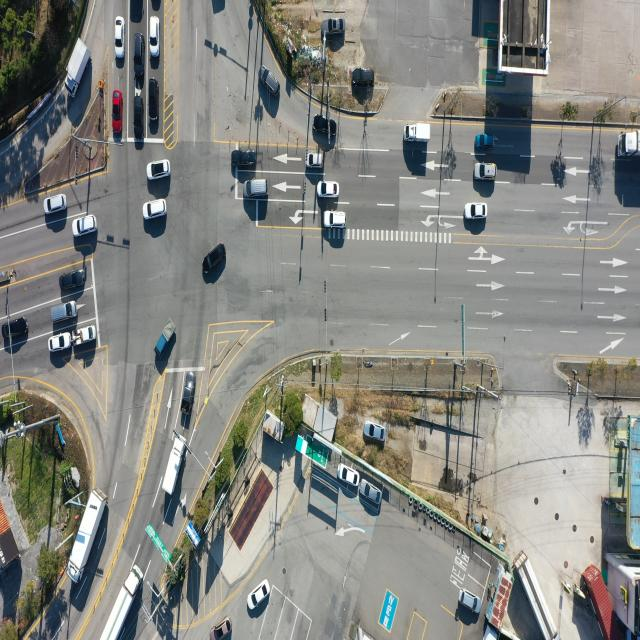car: (250, 578, 272, 610), (204, 244, 227, 273), (182, 373, 197, 415), (135, 34, 146, 91), (231, 148, 257, 172), (261, 66, 281, 96), (208, 615, 232, 640), (458, 589, 480, 616), (2, 320, 28, 342), (60, 270, 86, 292), (51, 302, 77, 324), (74, 214, 98, 237), (361, 481, 383, 506), (147, 158, 171, 180), (338, 464, 361, 486), (144, 200, 168, 221), (43, 195, 66, 216), (50, 334, 74, 354), (134, 90, 144, 136), (247, 181, 270, 201), (112, 90, 122, 136), (363, 422, 385, 442), (148, 78, 158, 122), (352, 67, 375, 86), (114, 16, 124, 58), (316, 119, 338, 138), (475, 163, 498, 181), (322, 211, 346, 228), (148, 18, 158, 58), (316, 180, 338, 198), (464, 203, 486, 220), (476, 133, 496, 150), (325, 18, 345, 35), (307, 150, 323, 169), (150, 0, 160, 11)
medium_truck: (100, 564, 146, 640), (67, 492, 104, 586), (520, 552, 560, 638), (65, 40, 92, 98), (161, 435, 185, 499), (620, 131, 640, 158)
small_truck: (157, 322, 176, 356), (72, 324, 96, 346), (406, 124, 431, 144)
